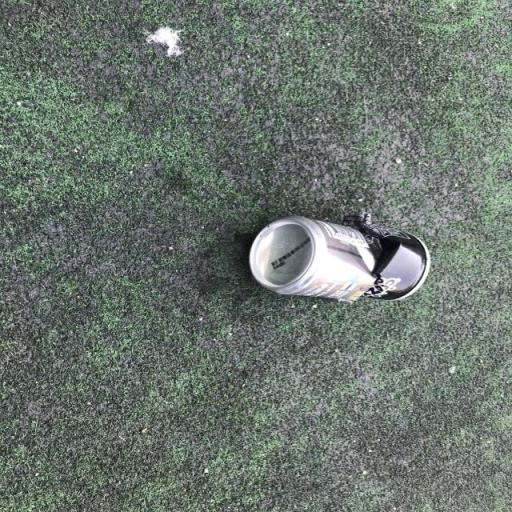metal: (206, 199, 468, 328)
